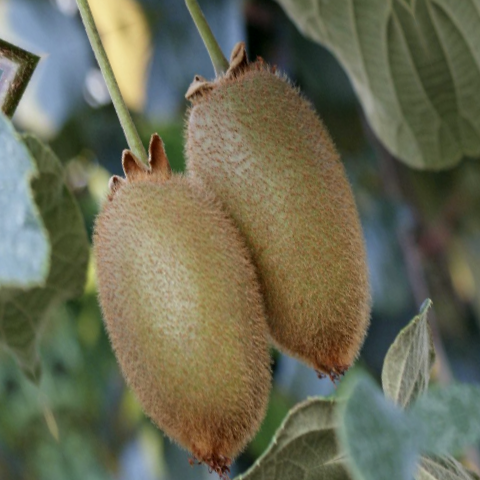kiwi: (145, 29, 424, 404), (47, 110, 319, 480)
